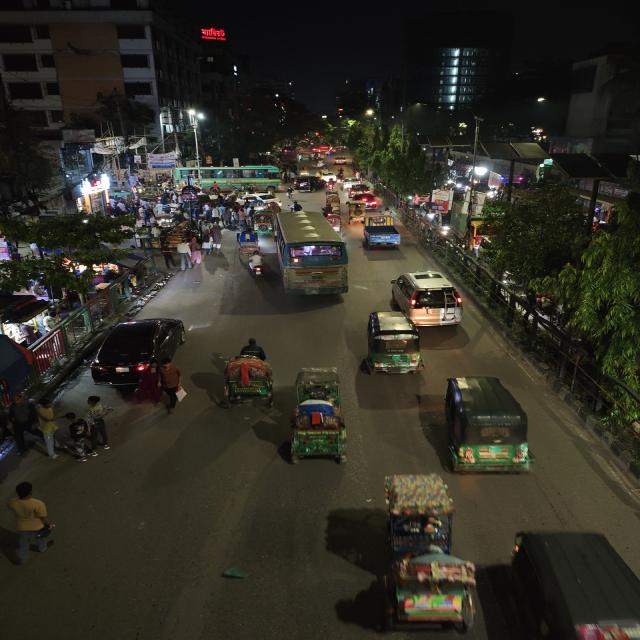bus: (270, 212, 351, 300), (203, 167, 282, 187), (282, 147, 296, 163)
car: (86, 314, 191, 386), (387, 270, 467, 327), (352, 192, 382, 208), (294, 178, 326, 192), (347, 183, 374, 197), (332, 157, 348, 165)
cng: (503, 529, 639, 640), (438, 372, 542, 480), (362, 310, 426, 378)
motorcycle: (244, 250, 268, 280), (337, 168, 348, 179), (326, 178, 334, 190)
pedestrian: (1, 480, 56, 560), (27, 398, 62, 460), (152, 361, 186, 414), (85, 395, 114, 453), (63, 410, 94, 461), (0, 408, 21, 478), (173, 238, 196, 271), (159, 240, 179, 269), (208, 223, 226, 255), (187, 238, 204, 268), (204, 227, 221, 255)
pickup_van: (360, 213, 406, 250)
rickshaw: (374, 469, 482, 636), (284, 371, 352, 469), (212, 336, 283, 414), (252, 212, 276, 236), (236, 226, 259, 246), (348, 202, 366, 224), (322, 190, 340, 208), (264, 198, 282, 212)
